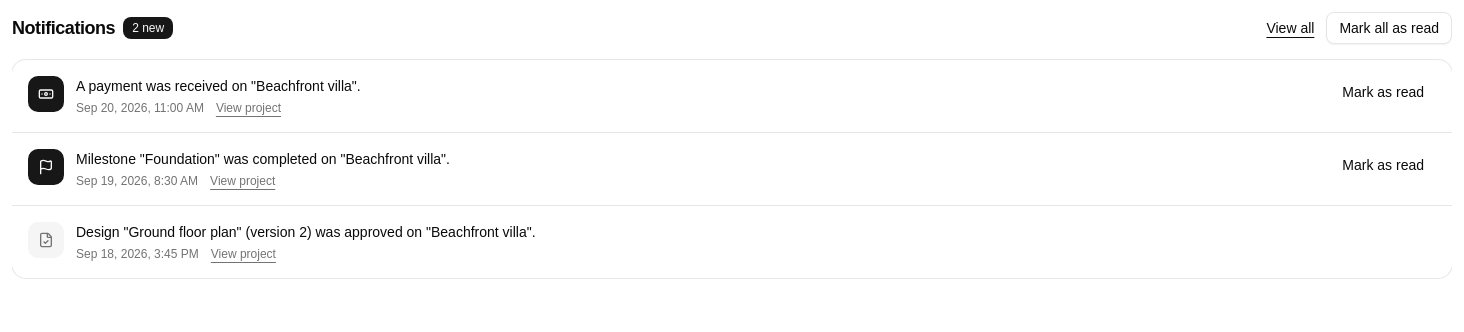
Test: NotificationsPanel › staying current › does not announce anything when marking fails
What coordinates should you click on to do the following:
click the button "Mark all as read"
I would click on:
 (1389, 28)
Its box is [1326,12,1452,44].
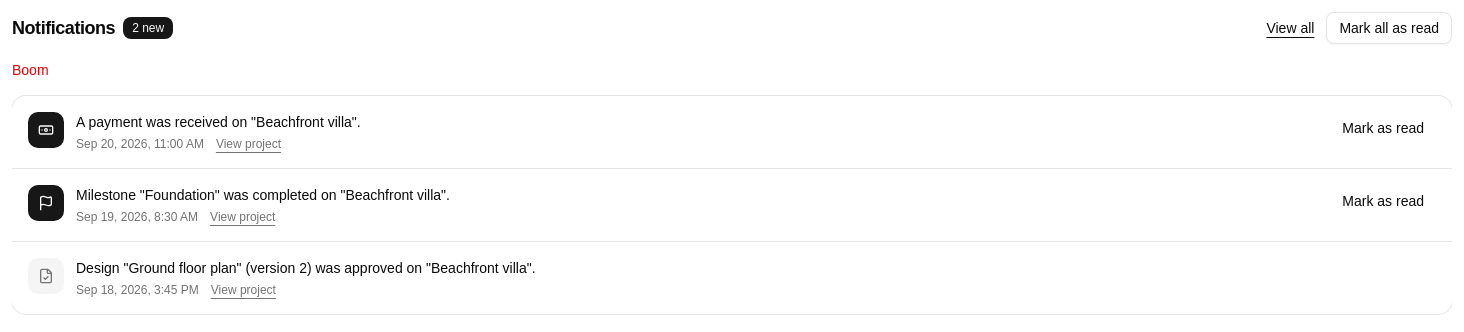
expect the message "Boom" is shown: met, box [12,62,49,78]
